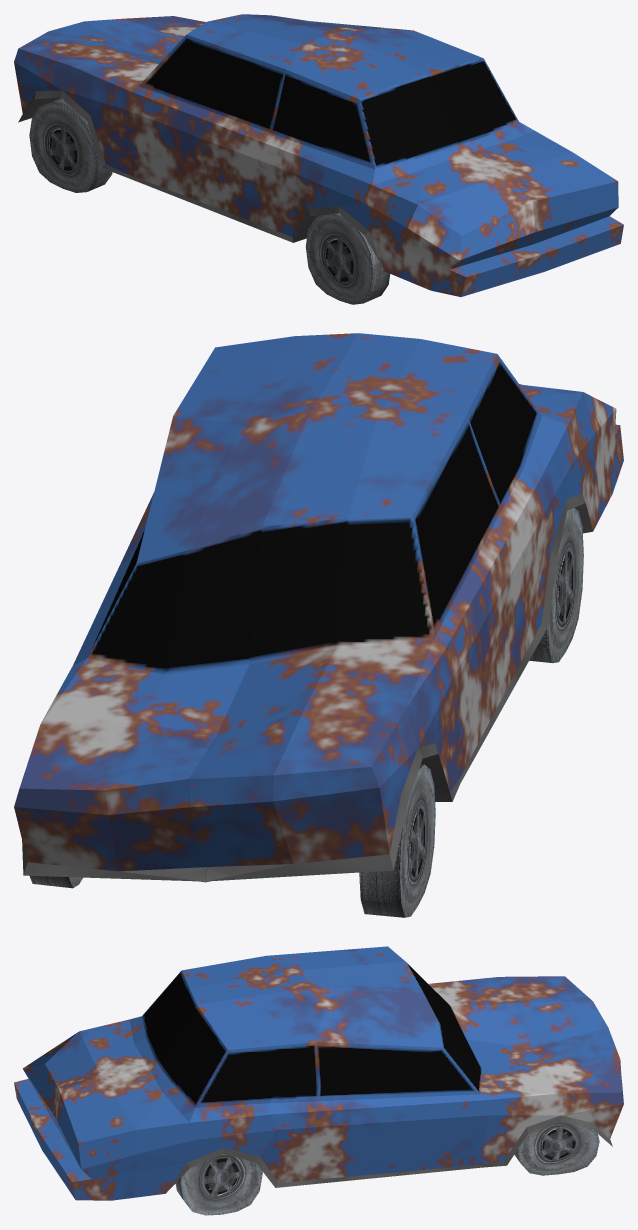
Rendered from Destroyed_Car_2.fbx.
The picture shows the model from 3 angles, top to bottom: view 1: azimuth 30°, elevation 25°; view 2: azimuth 150°, elevation 25°; view 3: azimuth 270°, elevation 25°; orthographic projection. The views are drawn at different scales.
Parts seen in each view (by area): view 1: Destroyed Car 2; view 2: Destroyed Car 2; view 3: Destroyed Car 2.
Boxes of the visible parts, x1,y1,x2,y2 form: Destroyed Car 2: [14, 14, 623, 304]; Destroyed Car 2: [14, 333, 623, 917]; Destroyed Car 2: [14, 946, 623, 1215].
Size of the model in its own units: 503 by 268 by 846.
